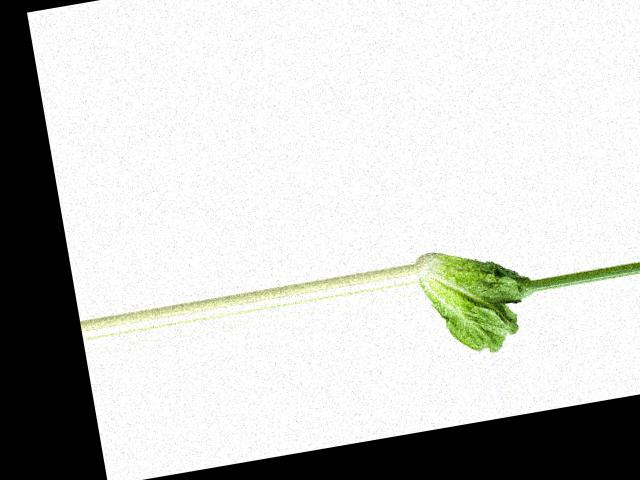lettuce: (415, 236, 539, 363)
